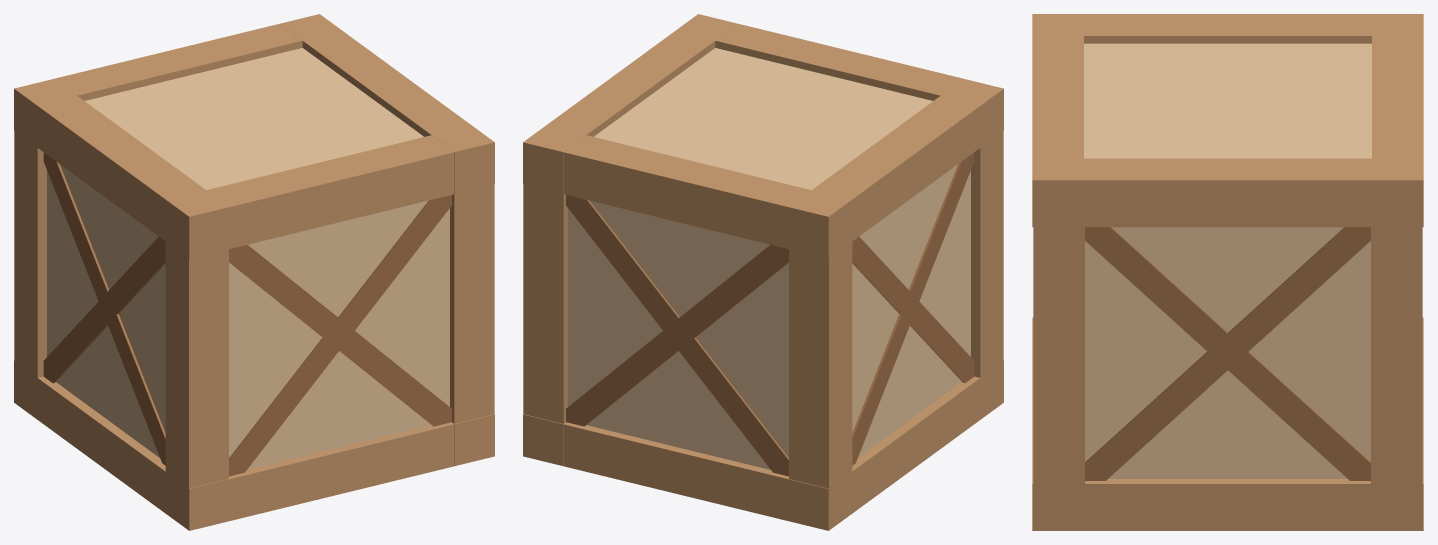
Rendered from WoodenCrate002.fbx.
3 views of the same model, side by side, from view 1: azimuth 30°, elevation 25°; view 2: azimuth 150°, elevation 25°; view 3: azimuth 270°, elevation 25° (orthographic). The views are drawn at different scales.
Parts seen in each view (by area): view 1: Cube.004; view 2: Cube.004; view 3: Cube.004.
Boxes of the visible parts, x1,y1,x2,y2 form: Cube.004: (14,14,494,530); Cube.004: (523,14,1003,530); Cube.004: (1032,14,1423,530).
Bounding box in the file's own units: 107 × 105 × 106.
